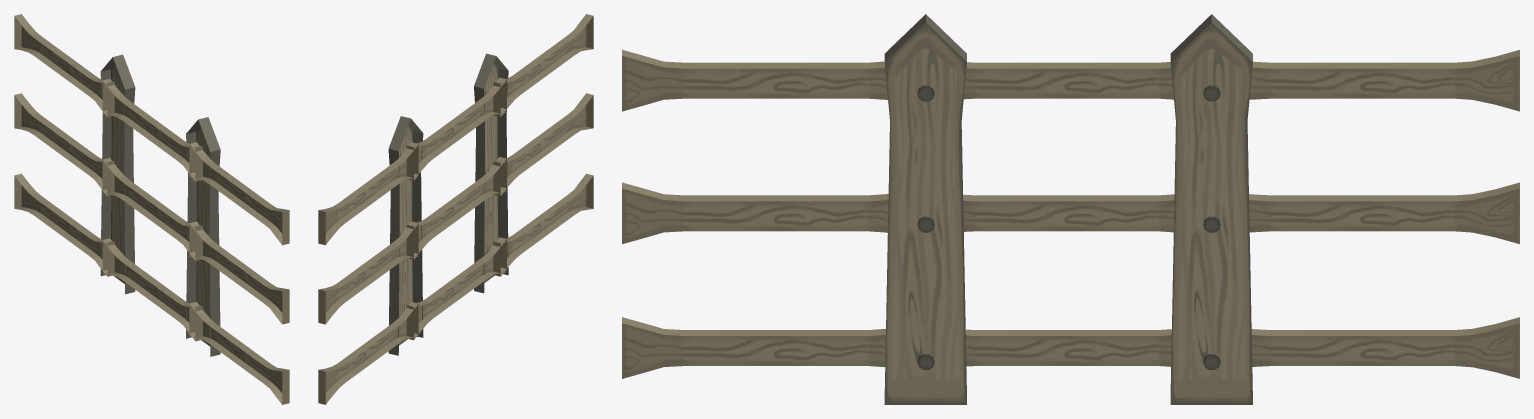
The model's file is Hek 2.fbx.
3 views of the same model, side by side, from view 1: azimuth 30°, elevation 25°; view 2: azimuth 150°, elevation 25°; view 3: azimuth 270°, elevation 25° (orthographic). The views are drawn at different scales.
Parts seen in each view (by area): view 1: paal.001, horizon paal.002, horizon paal.001, horizon paal; view 2: paal.001, horizon paal.002, horizon paal.001, horizon paal; view 3: paal.001, horizon paal.002, horizon paal.001, horizon paal, buttons.001.
Part boxes in pixels (left/top/right/bottom): paal.001: left=100, top=54, right=220, bottom=356; horizon paal.002: left=14, top=14, right=114, bottom=276; horizon paal.001: left=189, top=142, right=289, bottom=404; horizon paal: left=102, top=78, right=202, bottom=341; paal.001: left=388, top=53, right=508, bottom=355; horizon paal.002: left=318, top=142, right=418, bottom=404; horizon paal.001: left=493, top=14, right=593, bottom=276; horizon paal: left=406, top=77, right=506, bottom=340; paal.001: left=884, top=14, right=1252, bottom=404; horizon paal.002: left=1249, top=50, right=1519, bottom=378; horizon paal.001: left=622, top=49, right=888, bottom=378; horizon paal: left=963, top=62, right=1174, bottom=366; buttons.001: left=917, top=85, right=1220, bottom=369.
Size of the model in its own units: 37.87 by 401 by 853.
